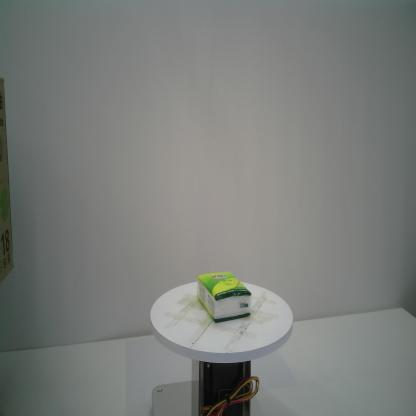Tissue: (196, 271, 252, 323)
